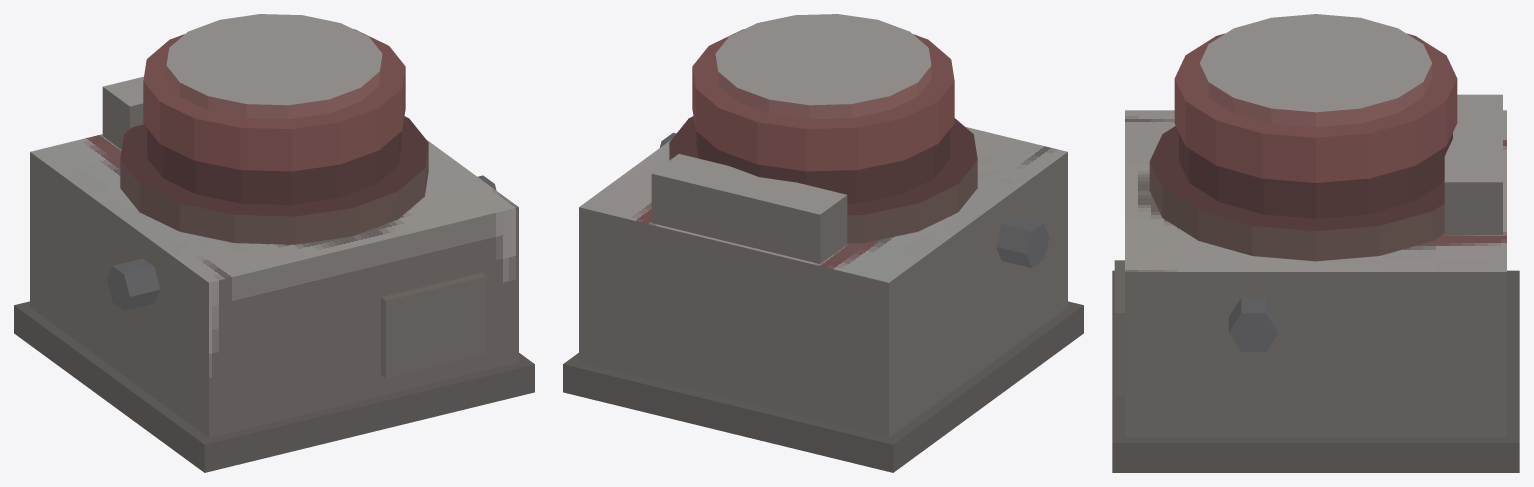
File: Building_AncientFuelNode__B.glb
3 renders of one model, left to right at view 1: azimuth 30°, elevation 25°; view 2: azimuth 150°, elevation 25°; view 3: azimuth 270°, elevation 25°, orthographic. The views are drawn at different scales.
Parts seen in each view (by area): view 1: AncientFuelNode__B; view 2: AncientFuelNode__B; view 3: AncientFuelNode__B.
Part boxes in pixels (box(x1,y1,x2,y2)): AncientFuelNode__B: box(14, 14, 534, 472); AncientFuelNode__B: box(563, 14, 1083, 472); AncientFuelNode__B: box(1112, 14, 1519, 472).
Size of the model in its own units: 1.1 by 0.86 by 0.98.
1 material, 1 textured.
